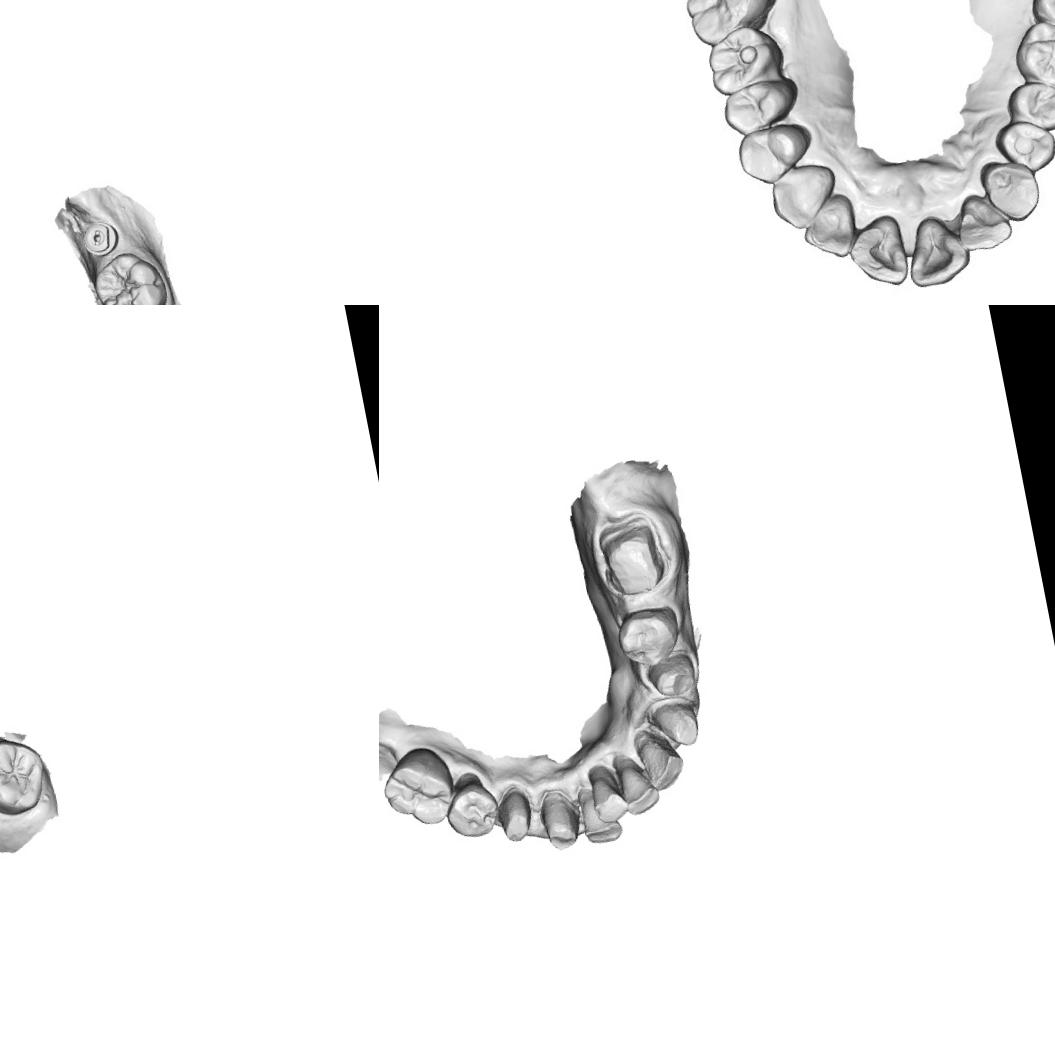canine: (762, 158, 849, 234), (976, 154, 1045, 228)
crown: (589, 520, 670, 606), (535, 788, 586, 855), (647, 694, 703, 754), (640, 647, 700, 702), (492, 786, 538, 846)
implant_minus: (78, 216, 121, 258)
incisor: (898, 212, 972, 293), (844, 214, 910, 294), (946, 184, 1014, 259), (796, 191, 864, 265), (636, 735, 687, 794), (574, 787, 623, 846), (616, 760, 663, 818), (586, 771, 630, 826)
molar: (379, 739, 461, 833), (702, 21, 793, 94), (612, 601, 686, 672), (87, 244, 173, 305), (675, 0, 783, 45), (0, 731, 53, 820), (1007, 13, 1055, 98), (1024, 0, 1055, 39)
premolar: (733, 118, 819, 188), (718, 72, 805, 138), (987, 112, 1055, 179), (440, 776, 504, 842), (1002, 76, 1055, 137)
